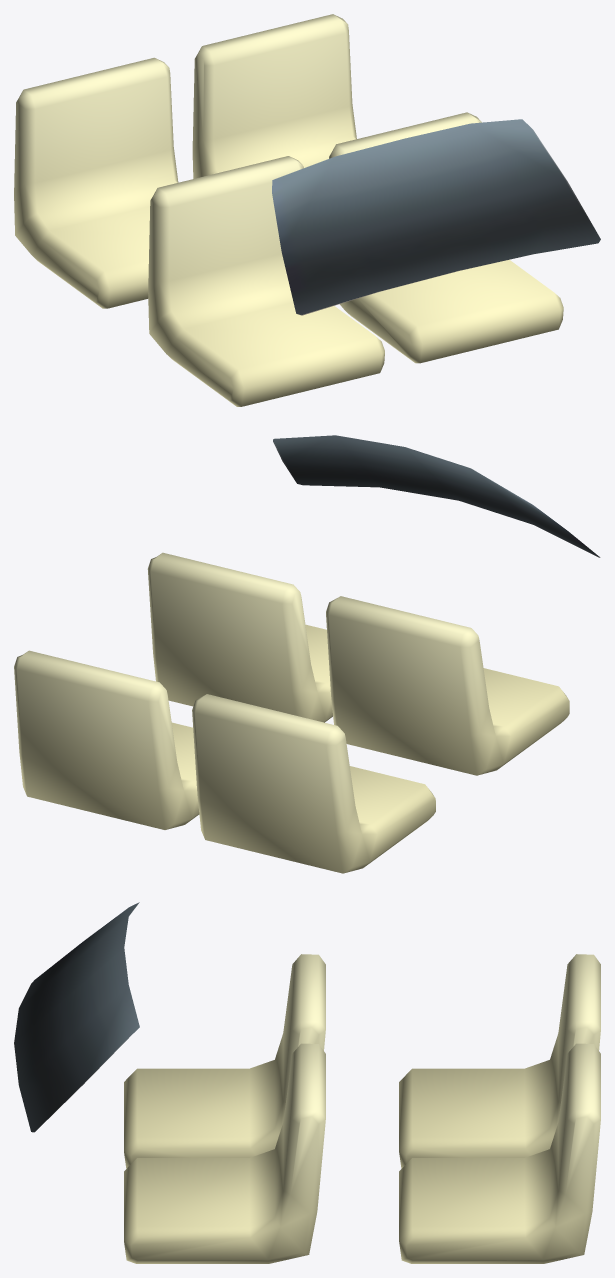
File: car_open.fbx
The picture shows the model from 3 angles, top to bottom: view 1: azimuth 30°, elevation 25°; view 2: azimuth 150°, elevation 25°; view 3: azimuth 270°, elevation 25°; orthographic projection. The views are drawn at different scales.
Parts seen in each view (by area): view 1: car_open; view 2: car_open; view 3: car_open.
Boxes of the visible parts, <box> form: car_open: <box>14,14,600,406</box>; car_open: <box>14,435,600,873</box>; car_open: <box>14,902,600,1263</box>.
Bounding box in the file's own units: 40.64 × 27.23 × 60.62.
